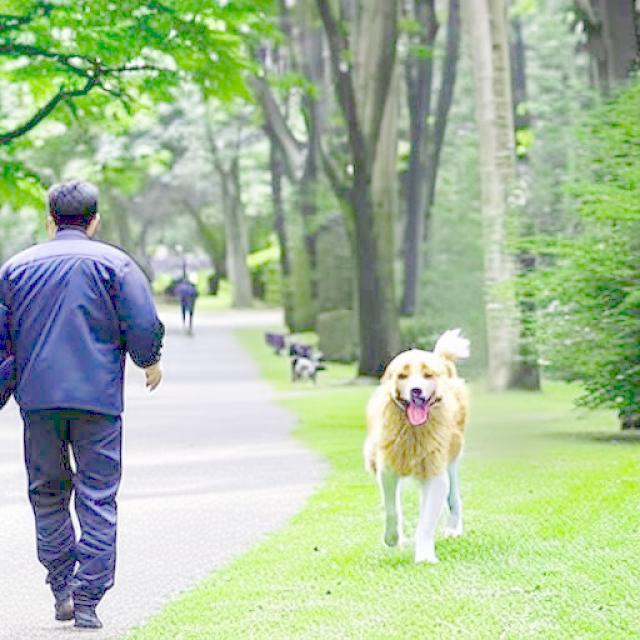Unleashed_Dog: (25, 328, 471, 565)
